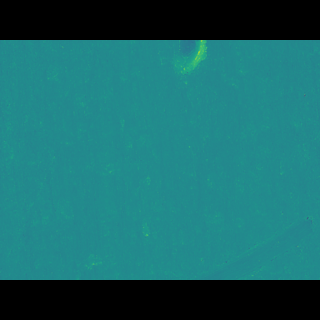Loch: (184, 199, 320, 250), (167, 68, 215, 101)
